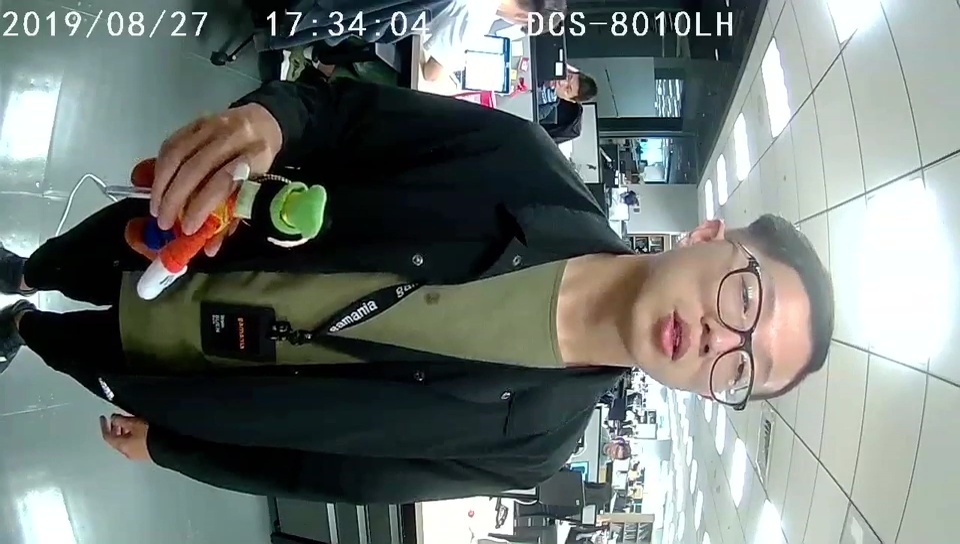goofy: (123, 158, 327, 300)
